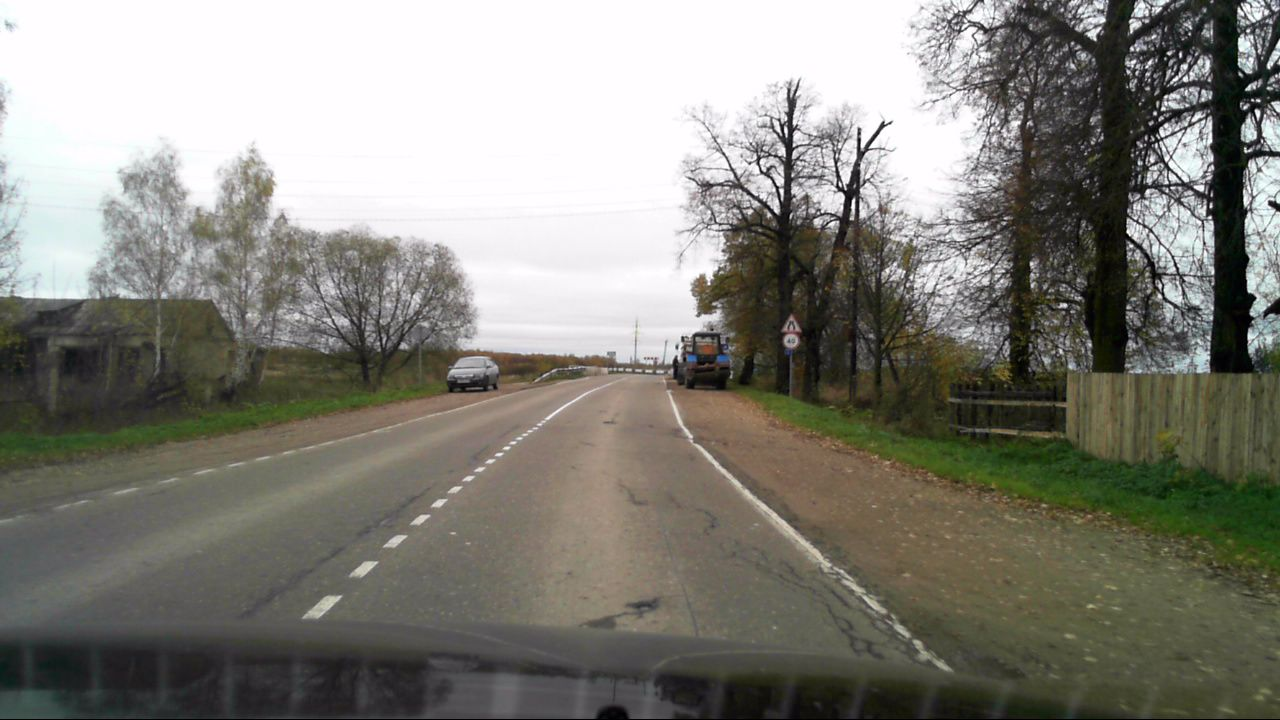speed_warning_40: (783, 333, 800, 349)
